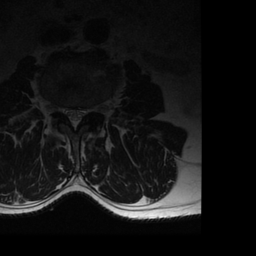CCS_normal: (70, 102, 78, 134)
LFS_stenosis: (86, 101, 93, 119)
LLS_normal: (79, 102, 86, 122)
RFS_stenosis: (55, 101, 63, 120)
RLS_stenosis: (63, 102, 71, 121)
